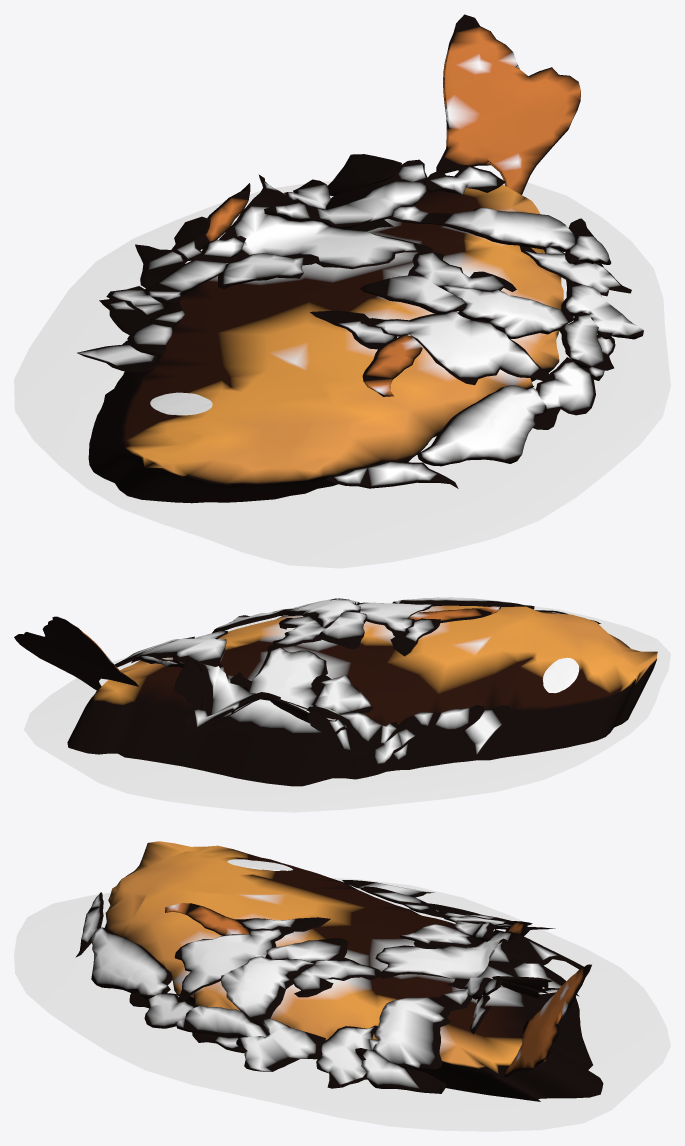
File: SM_D12_wok.fbx
3 renders of one model, top to bottom at view 1: azimuth 30°, elevation 25°; view 2: azimuth 150°, elevation 25°; view 3: azimuth 270°, elevation 25°, orthographic. The views are drawn at different scales.
Visible parts, largest first — view 1: SM_D12_wok; view 2: SM_D12_wok; view 3: SM_D12_wok.
Boxes of the visible parts, x1=… form: SM_D12_wok: x1=14, y1=14, x2=670, y2=568; SM_D12_wok: x1=14, y1=597, x2=670, y2=812; SM_D12_wok: x1=14, y1=841, x2=670, y2=1131.
Size of the model in its own units: 0.2568 by 0.0635 by 0.2729.
